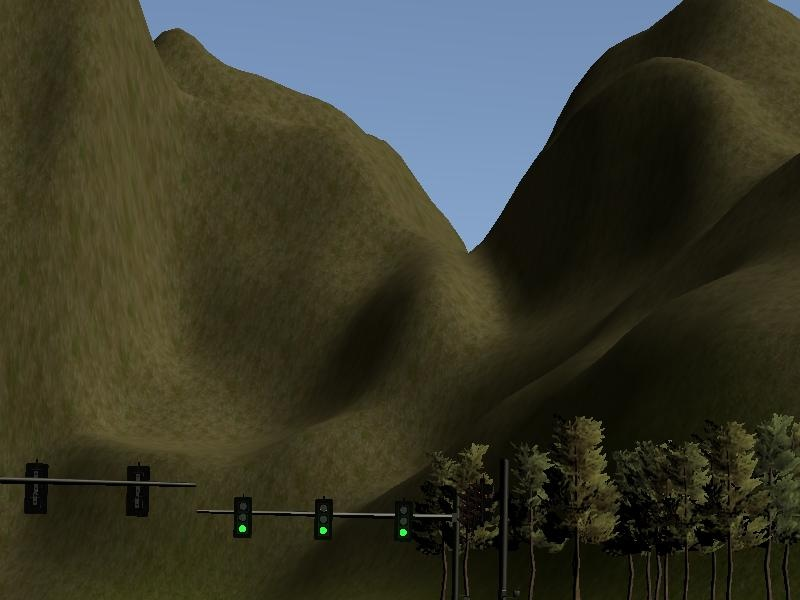green: (392, 499, 414, 542), (232, 496, 251, 538), (314, 498, 332, 542)
